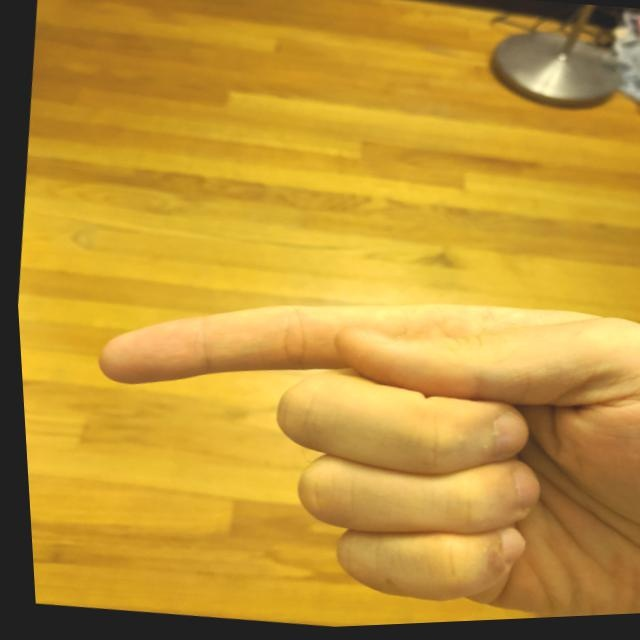G: (46, 237, 639, 638)
